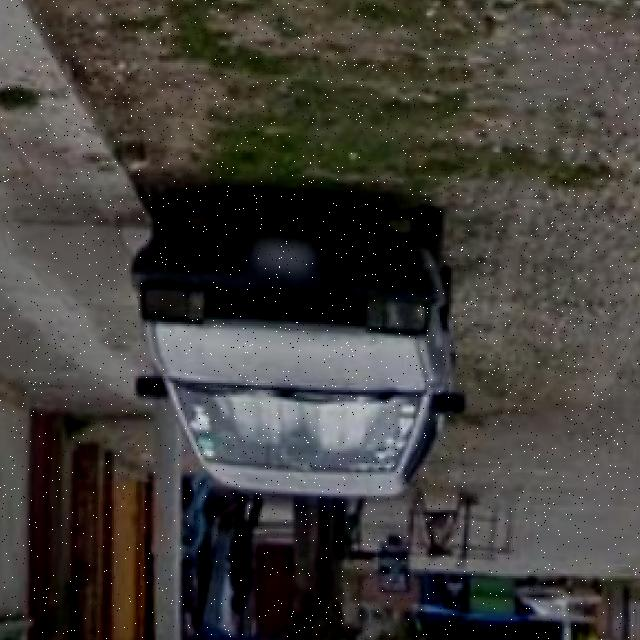car: (147, 200, 466, 502)
